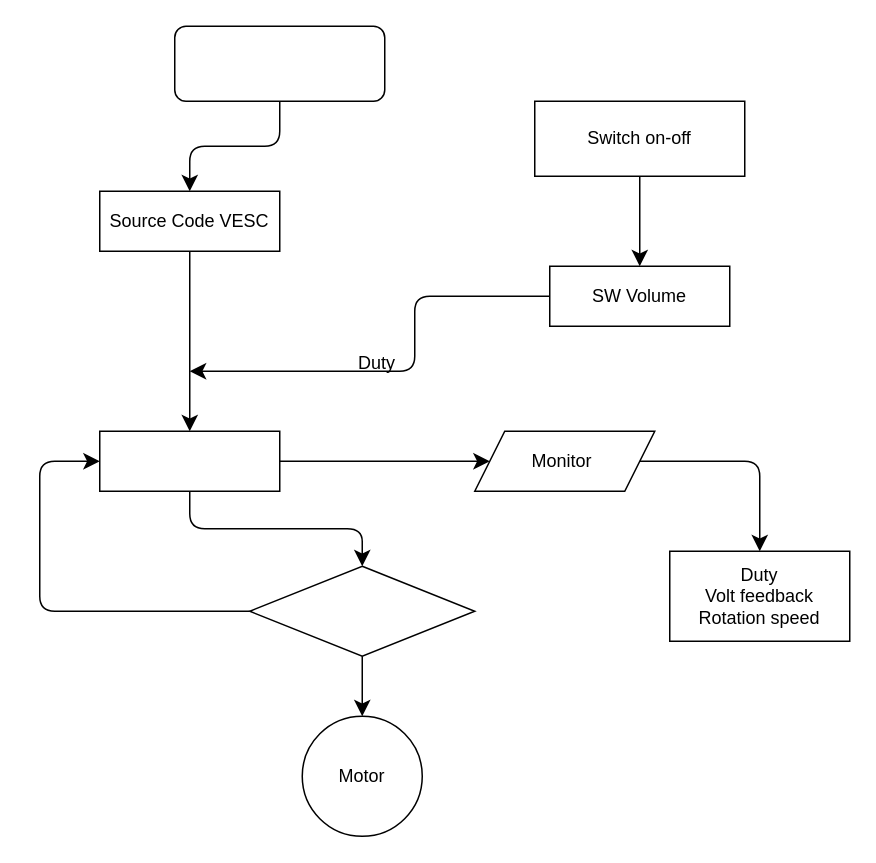
Image size: 876x863. Some labels were removed from this diagram. The box of each missing label's shape, as (x1, y1, x2, y2) in pixels:
Algorithms: (173, 25, 385, 101)
Custom Firmware: (98, 430, 280, 491)
Oscilloscopes test: (248, 565, 475, 656)
